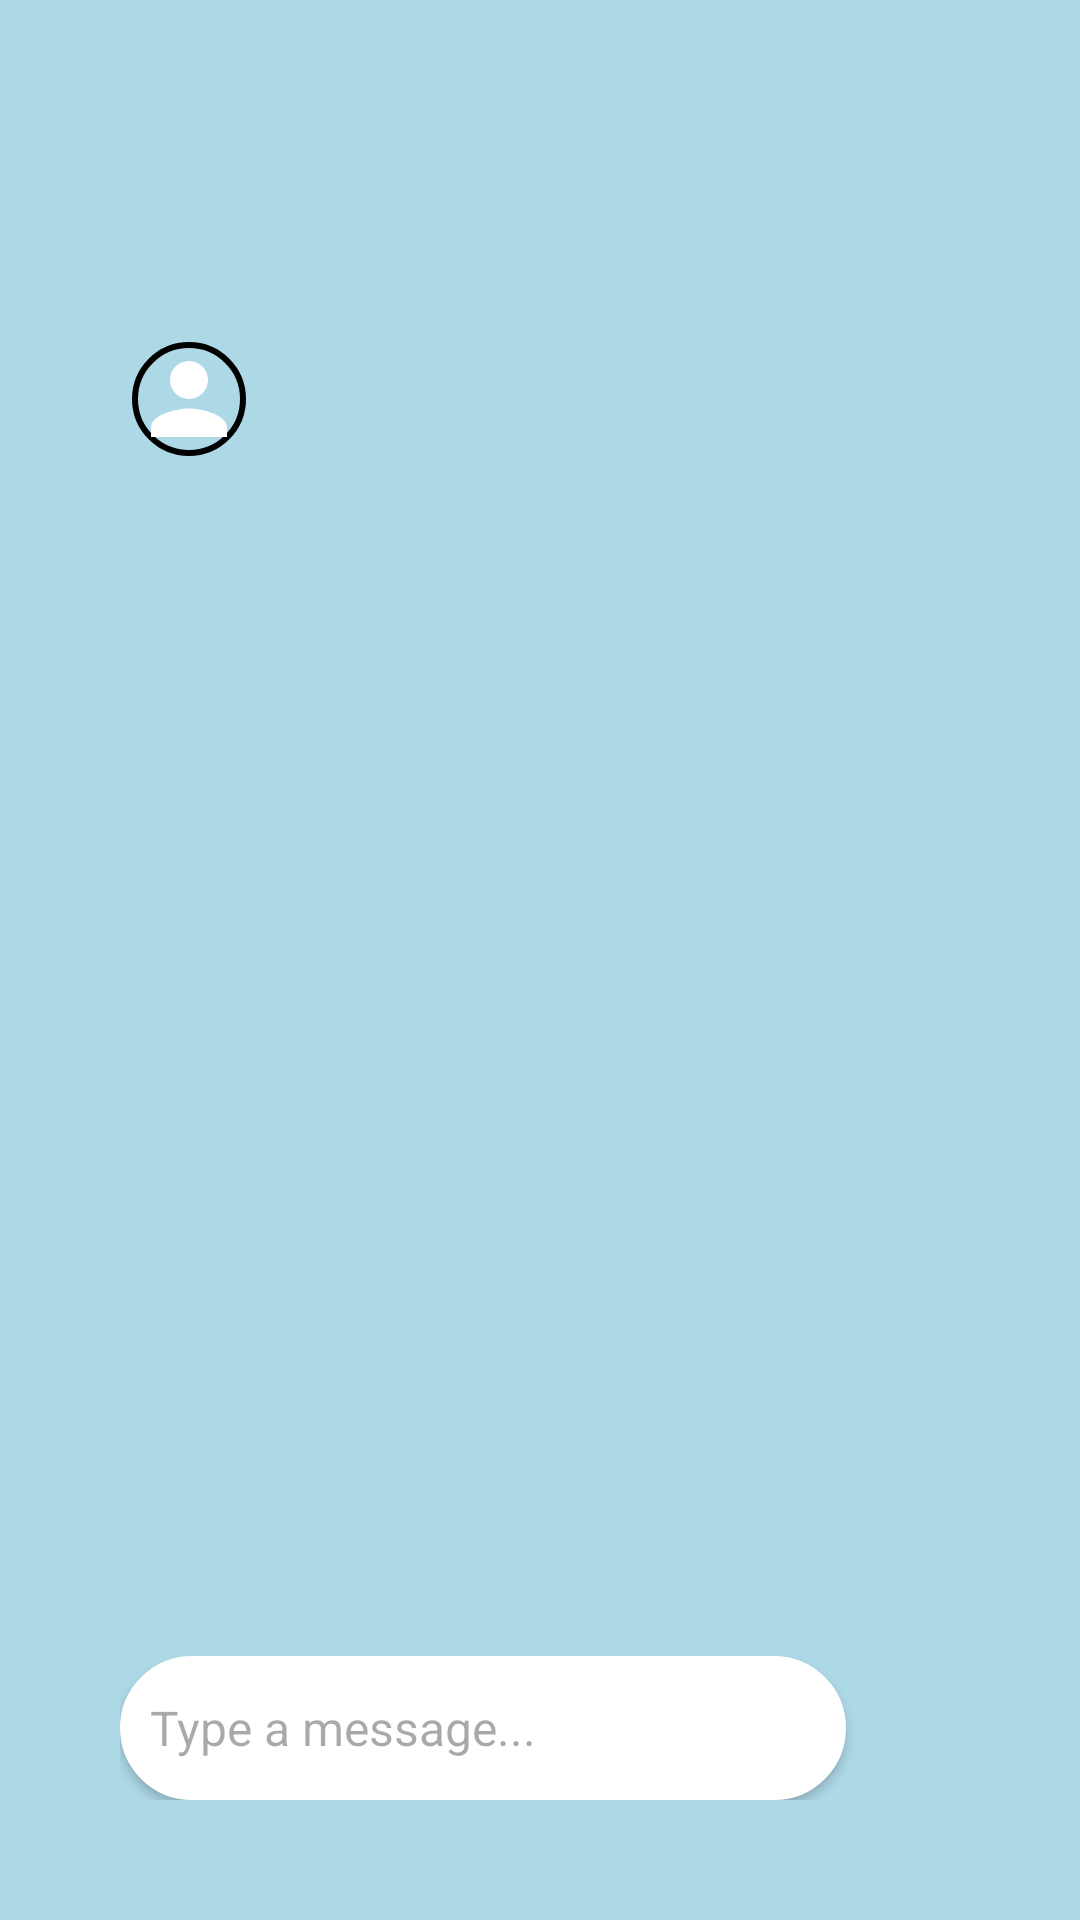

Icon click points for this 1080×1920 phone screenshot, format point (x, y):
Profile picture: point (189, 399)
